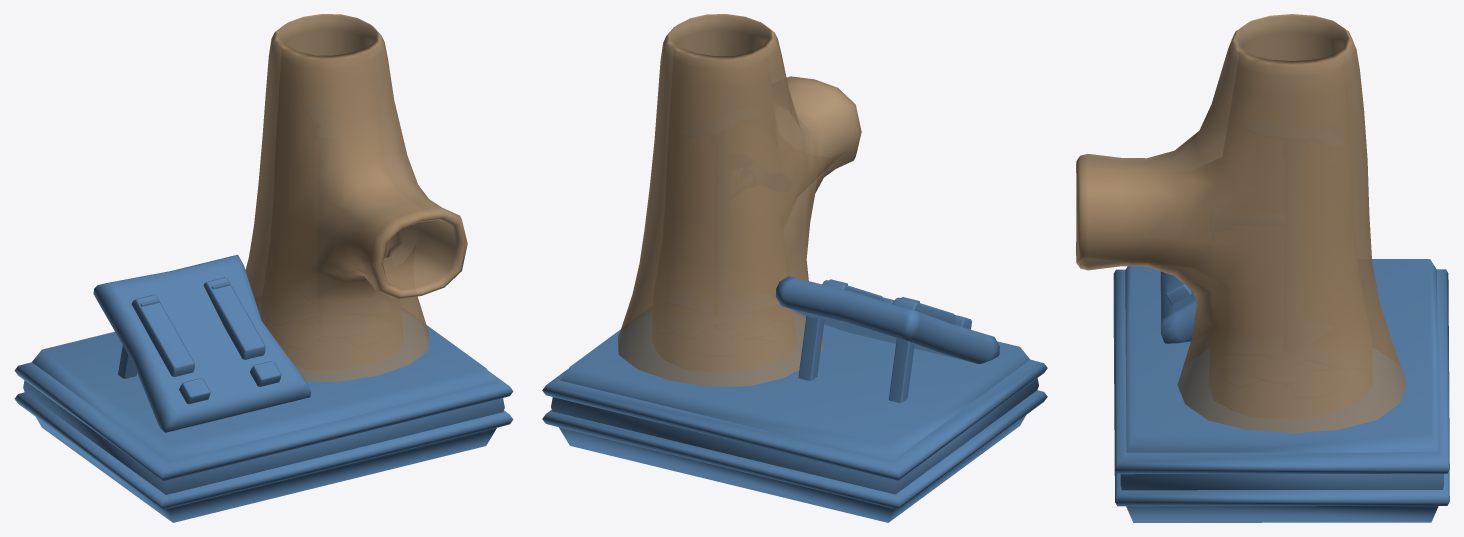
File: Appliances_Cutter.fbx
3 views of the same model, side by side, from view 1: azimuth 30°, elevation 25°; view 2: azimuth 150°, elevation 25°; view 3: azimuth 270°, elevation 25° (orthographic). The views are drawn at different scales.
Parts seen in each view (by area): view 1: Base, Glass, Left_Button, Right_Button; view 2: Base, Glass; view 3: Glass, Base, Right_Button.
Part boxes in pixels (x1,y1,x2,y2): Base: [14, 254, 513, 522]; Glass: [245, 14, 467, 381]; Left_Button: [179, 378, 210, 404]; Right_Button: [250, 361, 281, 386]; Base: [542, 276, 1047, 522]; Glass: [618, 14, 861, 386]; Glass: [1076, 14, 1406, 433]; Base: [1113, 259, 1449, 522]; Right_Button: [1165, 278, 1191, 304].
Size of the model in its own units: 95.14 by 98.42 by 76.44.
